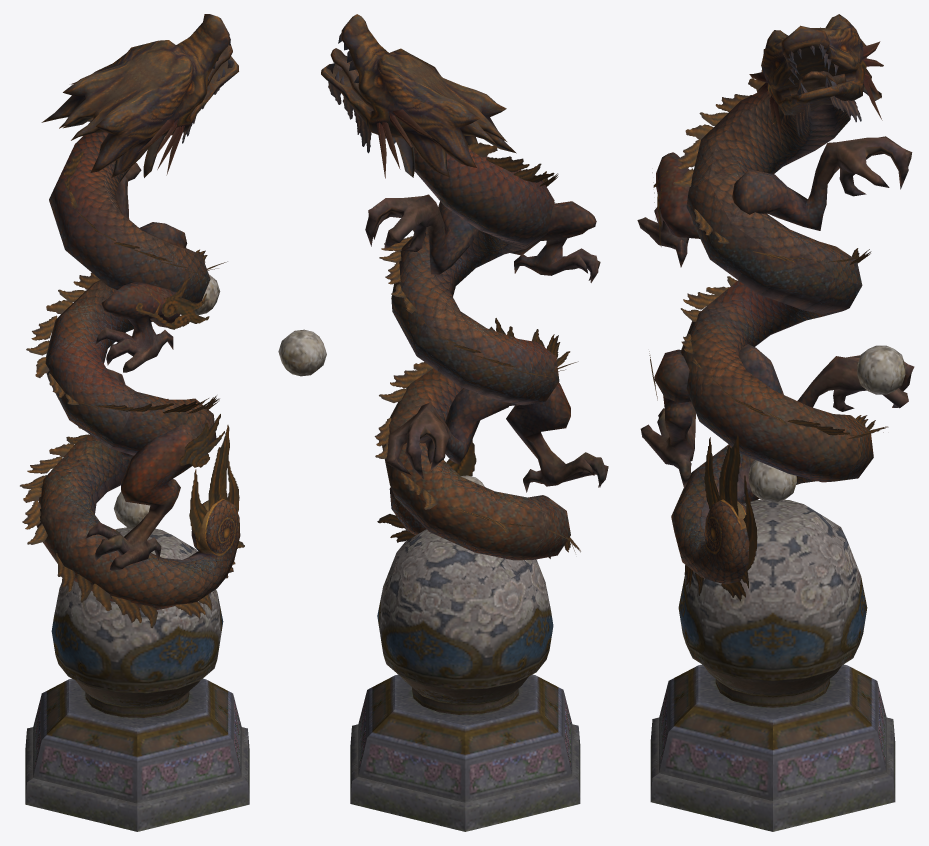
Rendered from dragon.FBX.
3 renders of one model, left to right at view 1: azimuth 30°, elevation 25°; view 2: azimuth 150°, elevation 25°; view 3: azimuth 270°, elevation 25°, orthographic. The views are drawn at different scales.
Visible parts, largest first — view 1: objlostisland_build08; view 2: objlostisland_build08; view 3: objlostisland_build08.
Part boxes in pixels (<box>): objlostisland_build08: <box>20,14,249,831</box>; objlostisland_build08: <box>278,14,608,831</box>; objlostisland_build08: <box>637,14,914,831</box>.
Bounding box in the file's own units: 58.87 × 171 × 53.95.
